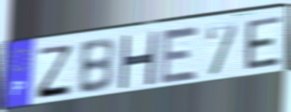7: (205, 20, 239, 79)
B: (77, 35, 117, 96)
E: (158, 25, 201, 86), (244, 14, 283, 72)
H: (117, 31, 160, 90)
Z: (35, 44, 75, 101)
